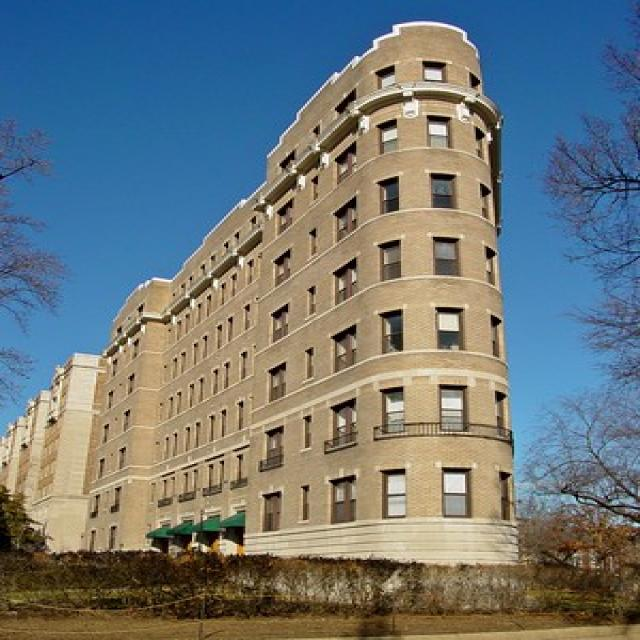building: (73, 18, 529, 572)
